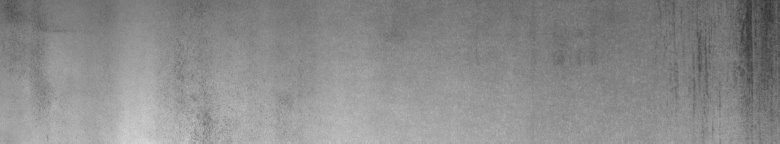ka: (689, 4, 776, 115)
